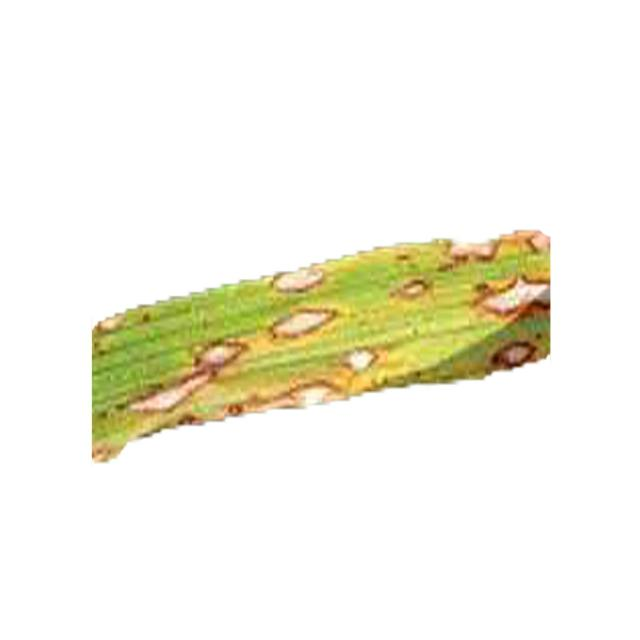Leaf blast: (64, 120, 586, 530)
